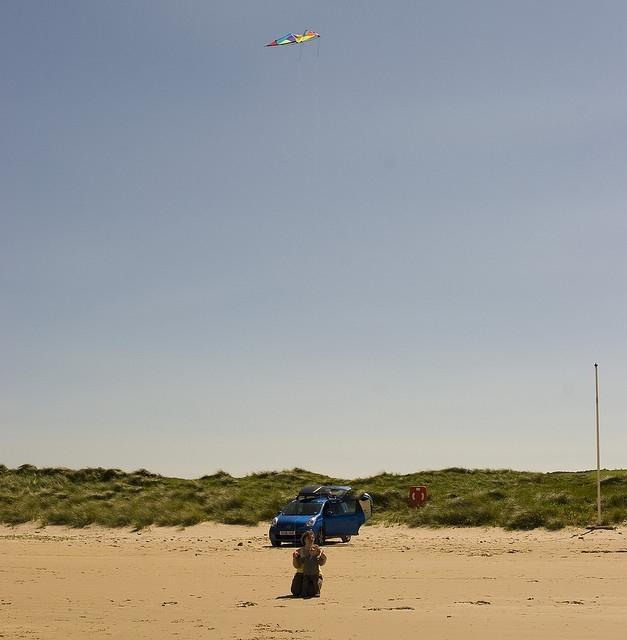car: (269, 486, 366, 546)
